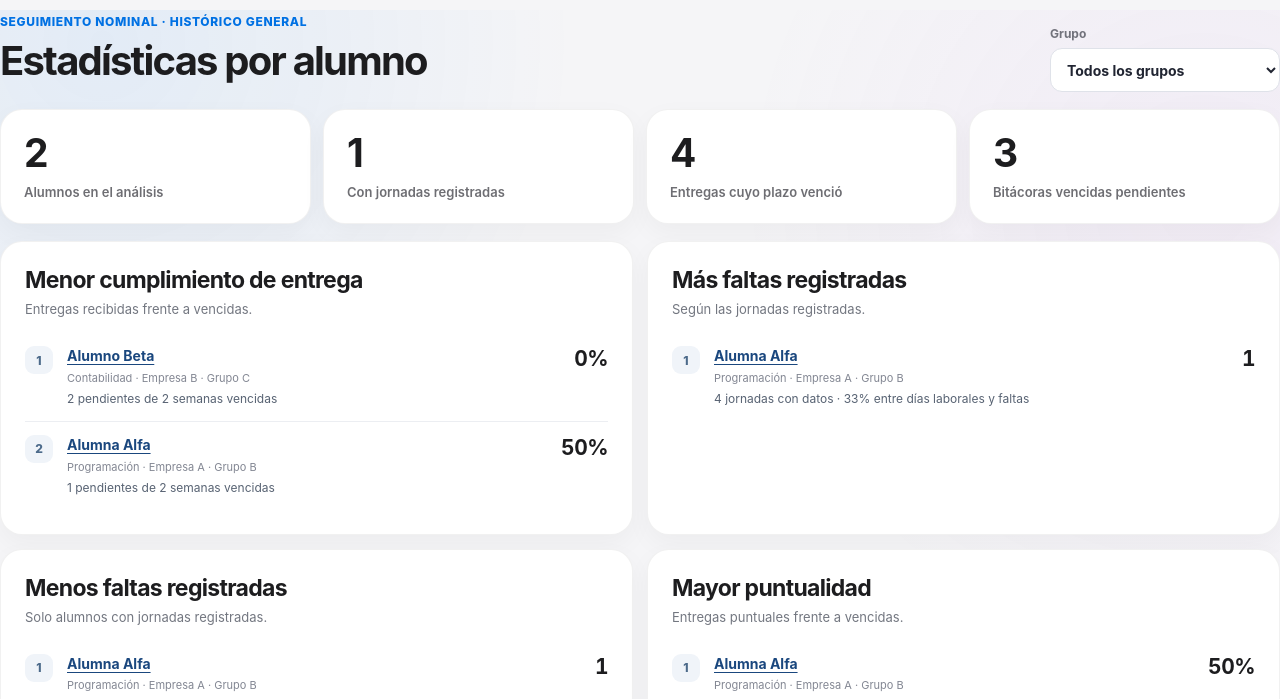
pantalla de seguimiento nominal 0.54 › filtra por grupo el seguimiento y las clasificaciones
The width and height of the screenshot is (1280, 699).
Select "B" in the dropdown labelled "Grupo" at (1165, 70), box [1050, 48, 1279, 92]
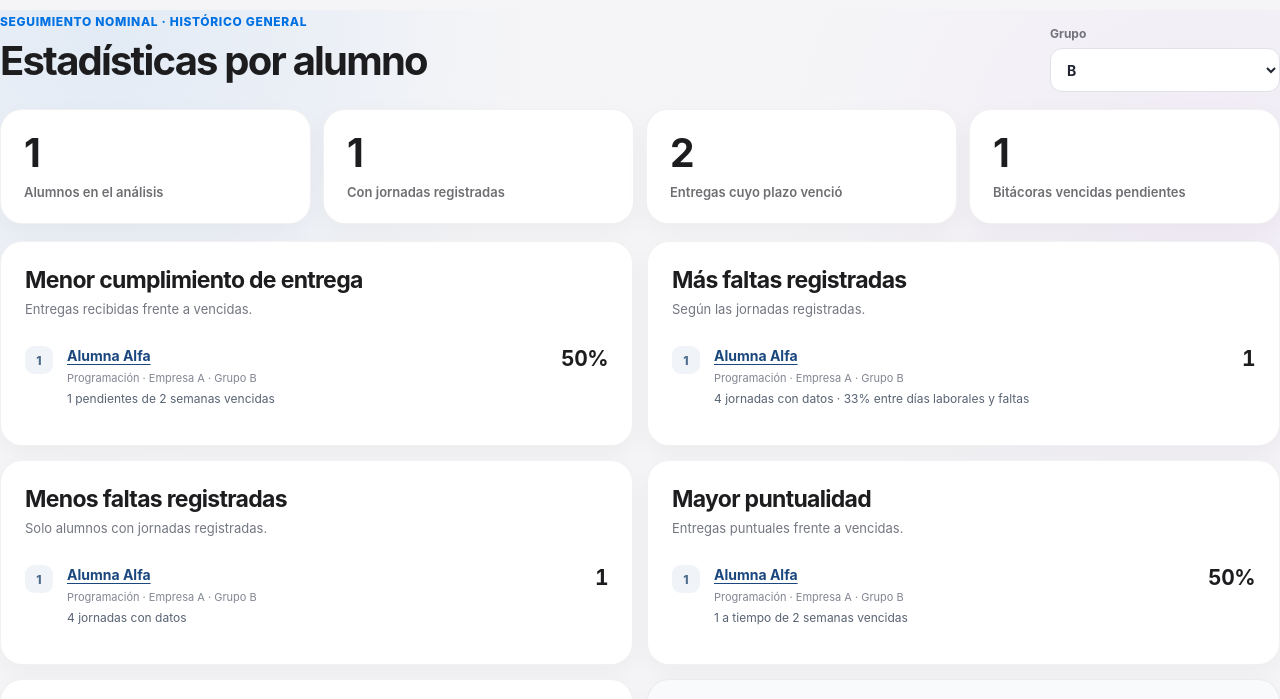
Expected: the heading "Menor cumplimiento de entrega" is shown, [25, 266, 363, 294]
Select "C" in the dropdown labelled "Grupo" at (1165, 70), box [1050, 48, 1279, 92]
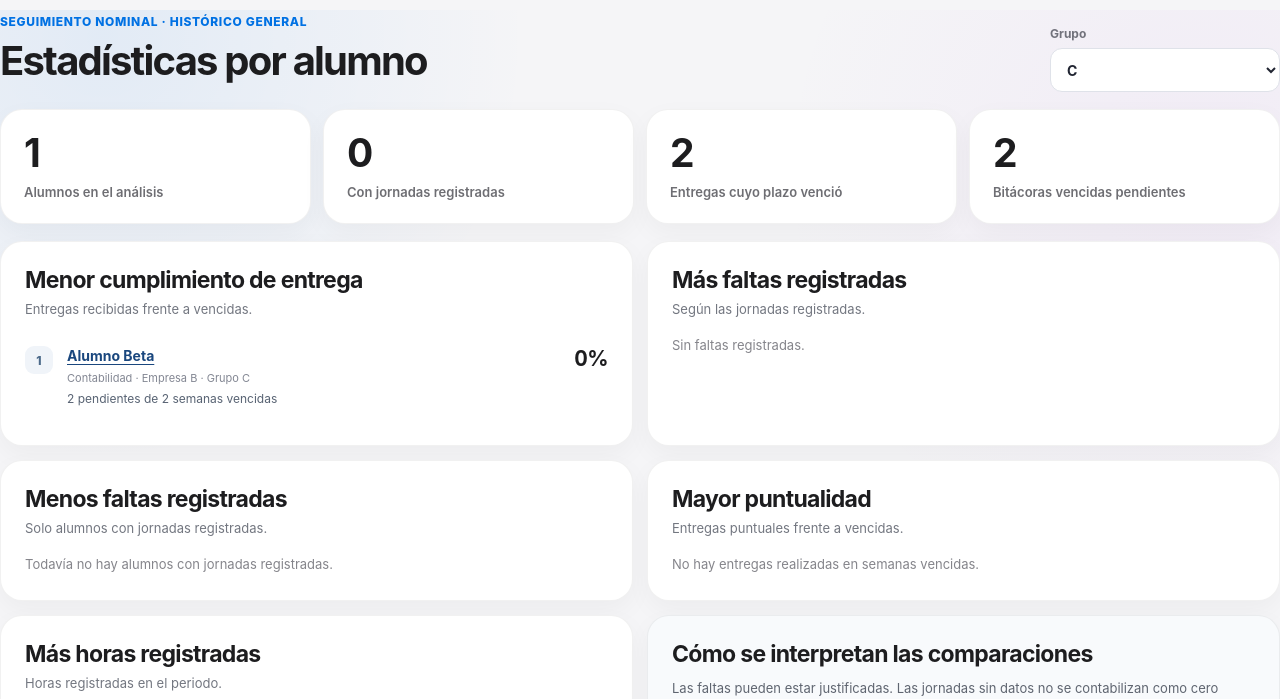
Now the button "Alumno Beta" is shown, box [67, 346, 562, 366]
